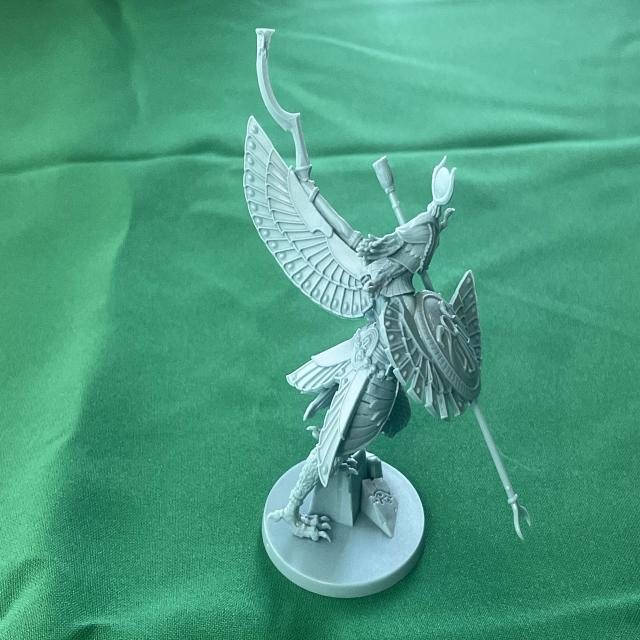isis: (235, 19, 539, 608)
